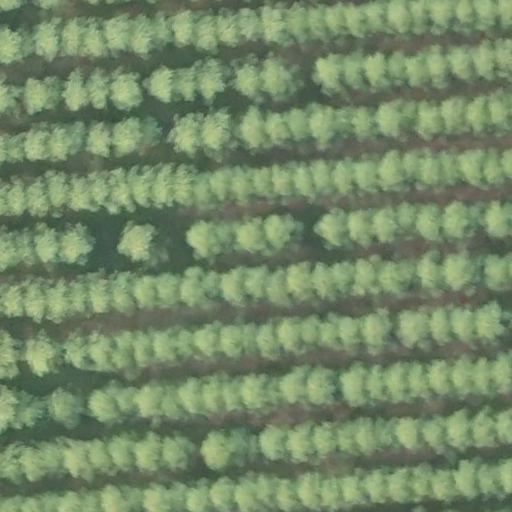eucalipto: (258, 53, 304, 103), (302, 99, 341, 156), (116, 217, 160, 266), (20, 329, 64, 378), (234, 106, 272, 160), (393, 305, 433, 354), (22, 70, 63, 117), (199, 110, 236, 160), (443, 252, 483, 298), (196, 429, 237, 472), (167, 111, 203, 159), (312, 50, 344, 103), (313, 205, 350, 250), (196, 56, 229, 105), (304, 363, 339, 409), (339, 360, 370, 411), (124, 162, 156, 211), (230, 216, 267, 258), (254, 3, 288, 48), (445, 41, 476, 90), (456, 149, 489, 195), (470, 302, 507, 343), (441, 201, 477, 243), (466, 36, 496, 86), (46, 277, 77, 325), (217, 263, 250, 308), (59, 223, 93, 266), (261, 211, 295, 254), (52, 384, 84, 429), (229, 60, 264, 101), (110, 69, 144, 111), (348, 254, 380, 298), (283, 425, 316, 467), (31, 17, 61, 63), (144, 65, 174, 111), (379, 149, 409, 195), (237, 371, 272, 410), (413, 200, 443, 245), (468, 406, 498, 451), (183, 217, 215, 259), (88, 387, 124, 424), (129, 11, 155, 62), (178, 267, 208, 311), (256, 421, 289, 461), (342, 47, 370, 94), (263, 110, 295, 151), (80, 17, 109, 62), (374, 99, 403, 144), (65, 437, 94, 482), (443, 407, 472, 452), (31, 223, 62, 265), (425, 43, 450, 95), (174, 162, 201, 210), (112, 115, 142, 158), (190, 9, 218, 55), (111, 270, 137, 319), (61, 66, 88, 113), (361, 311, 388, 358), (83, 119, 113, 161), (415, 250, 443, 295), (390, 417, 425, 453), (87, 64, 112, 114), (87, 329, 114, 375), (135, 380, 166, 420), (161, 434, 192, 474), (416, 99, 444, 143), (441, 96, 469, 140), (467, 95, 493, 142), (350, 105, 379, 147), (151, 165, 178, 210), (347, 207, 375, 250), (253, 318, 281, 361), (350, 415, 378, 458), (217, 321, 247, 361), (279, 366, 309, 406), (455, 457, 480, 505), (371, 206, 400, 247), (309, 418, 338, 459), (311, 259, 338, 303), (150, 330, 181, 368), (229, 163, 254, 210), (179, 375, 206, 418), (233, 5, 262, 45), (108, 434, 136, 475), (135, 434, 163, 475), (89, 273, 115, 317), (421, 411, 447, 455), (104, 14, 131, 56), (43, 170, 72, 209), (451, 355, 475, 402), (324, 1, 349, 46), (336, 313, 361, 358), (191, 323, 219, 363), (330, 155, 356, 198), (22, 281, 48, 324), (450, 306, 476, 349), (148, 8, 172, 54), (365, 50, 390, 94), (173, 63, 199, 105), (288, 260, 314, 302), (63, 329, 88, 372), (476, 459, 502, 500), (363, 468, 391, 506), (492, 86, 512, 139), (286, 1, 309, 47), (405, 46, 428, 92), (481, 146, 505, 190), (21, 445, 48, 484), (428, 357, 453, 399), (209, 475, 238, 511), (24, 126, 50, 166), (296, 470, 322, 510), (429, 304, 452, 349), (235, 474, 262, 512), (427, 1, 456, 36), (305, 1, 328, 45), (134, 274, 158, 316), (353, 159, 378, 199), (59, 15, 82, 58), (278, 314, 301, 357), (407, 360, 430, 403), (270, 161, 296, 199), (366, 363, 390, 404), (216, 7, 238, 51), (27, 174, 49, 218), (471, 357, 493, 401), (268, 269, 291, 311), (387, 360, 408, 406), (244, 263, 270, 300), (139, 480, 169, 512), (415, 154, 443, 188), (130, 332, 155, 370), (386, 1, 413, 36), (170, 9, 193, 50), (344, 1, 367, 42), (251, 164, 274, 205), (220, 374, 243, 415), (47, 125, 71, 164), (386, 466, 410, 505), (274, 476, 300, 512), (404, 1, 429, 38), (388, 48, 410, 90), (450, 1, 476, 36), (211, 166, 234, 205), (183, 480, 211, 512), (156, 270, 180, 307), (340, 472, 364, 509), (440, 147, 461, 189), (292, 162, 315, 200), (434, 467, 456, 506), (312, 160, 334, 198), (365, 1, 388, 37), (297, 312, 321, 346), (287, 109, 310, 144), (5, 129, 26, 167)
